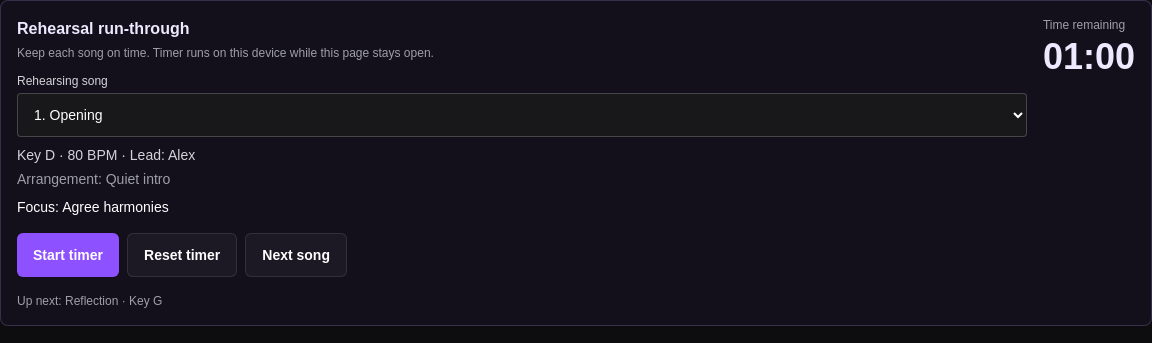
Scenario: rehearsal run-through › starts, pauses without advancing, resumes, and resets the same song
Click the button "Start timer" at [68, 255], box [17,233,119,277]
Wait 10000 ms
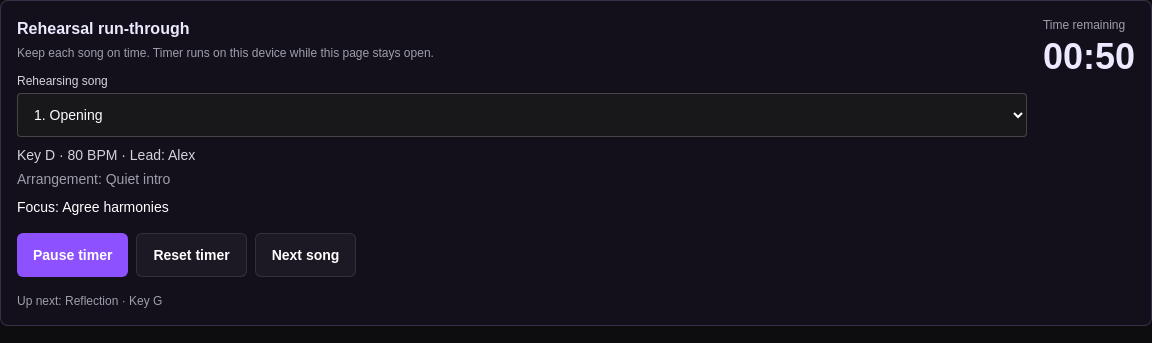
Expected: the text "00:50" is shown, [1043,37,1135,77]
Click the button "Pause timer" at [73, 255], box [17,233,128,277]
Wait 20000 ms
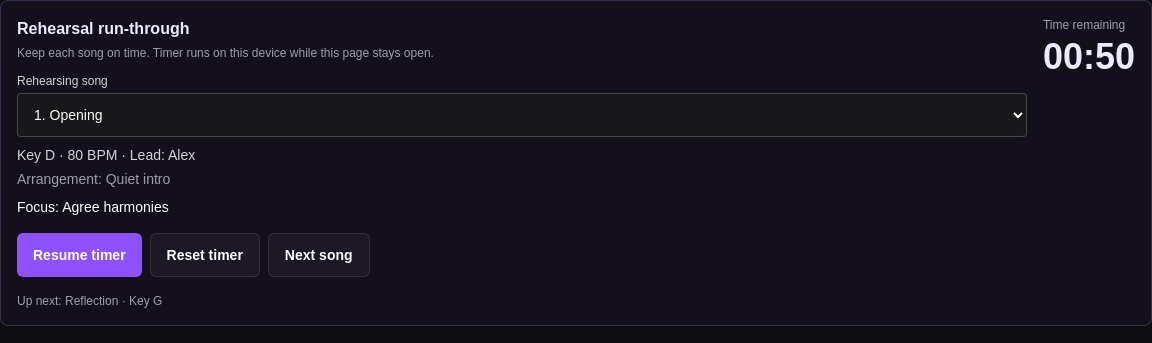
Expected: the text "00:50" is shown, [1043,37,1135,77]
Click the button "Resume timer" at [79, 255], box [17,233,142,277]
Wait 5000 ms
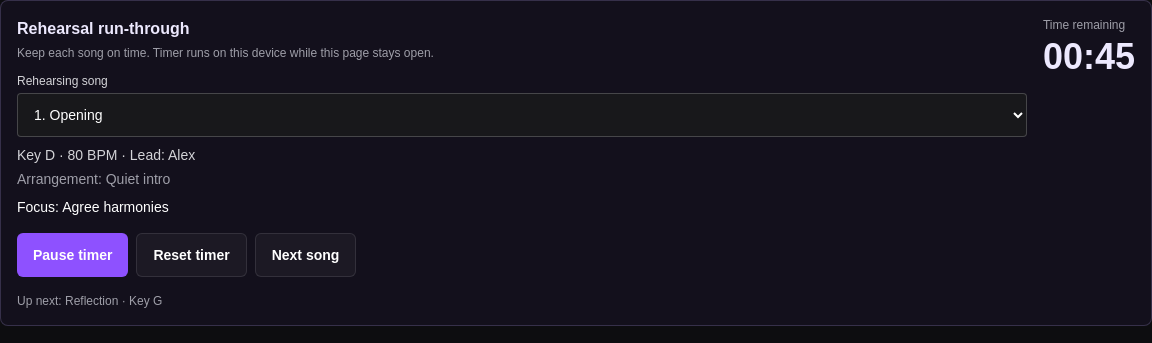
Expected: the text "00:45" is shown, [1043,37,1135,77]
Click the button "Reset timer" at [192, 255], box [136,233,247,277]
Wait 3000 ms
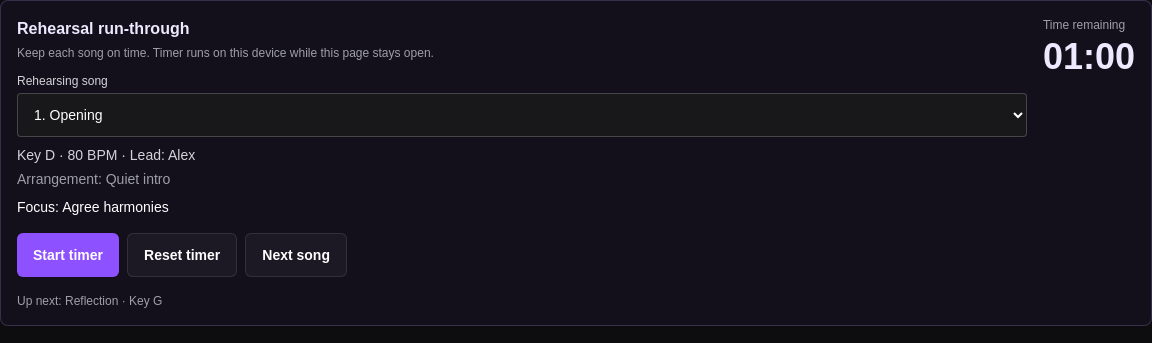
Expected: the button "Start timer" is enabled, [17,233,119,277]
Expected: the text "01:00" is shown, [1043,37,1135,77]
